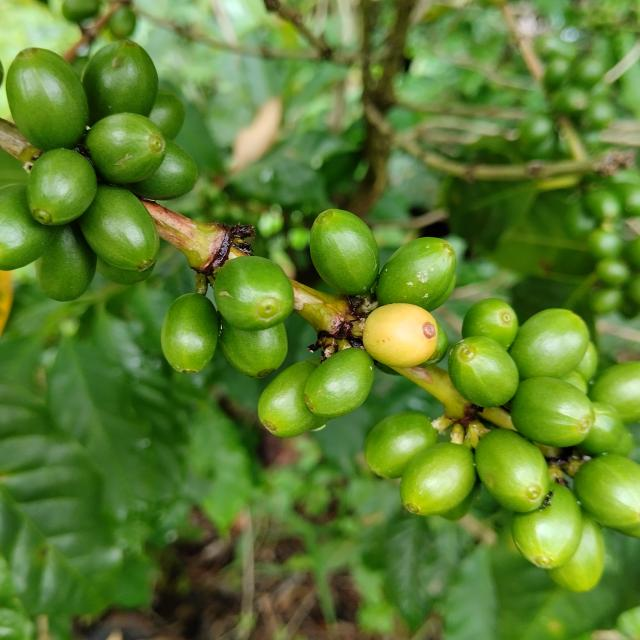green: (5, 47, 88, 151), (78, 184, 159, 271), (81, 39, 158, 125), (475, 429, 551, 513), (512, 485, 584, 570), (213, 256, 294, 331), (511, 377, 596, 448), (310, 209, 380, 295), (377, 237, 456, 311), (84, 112, 165, 184), (510, 309, 590, 381), (400, 443, 476, 516), (575, 455, 640, 538), (26, 148, 96, 225), (258, 361, 327, 438), (304, 348, 375, 419), (449, 336, 519, 408), (365, 411, 438, 479), (34, 221, 96, 301), (0, 184, 55, 271), (547, 513, 606, 593), (160, 293, 218, 373), (124, 139, 197, 200), (219, 316, 288, 378), (591, 362, 640, 425), (579, 402, 634, 457), (462, 299, 518, 350), (148, 88, 185, 139)
yellow: (363, 303, 438, 368)
